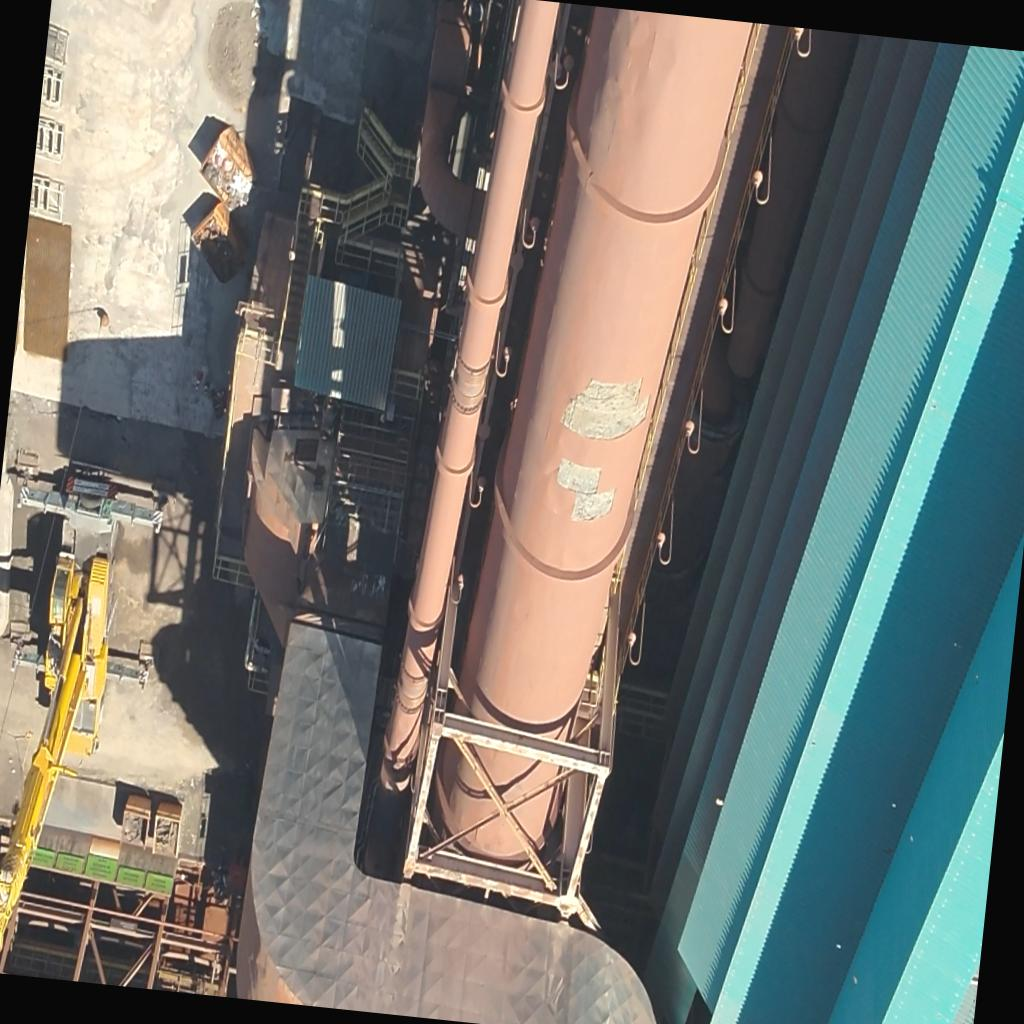Failures: (554, 364, 652, 450), (546, 458, 621, 528)
